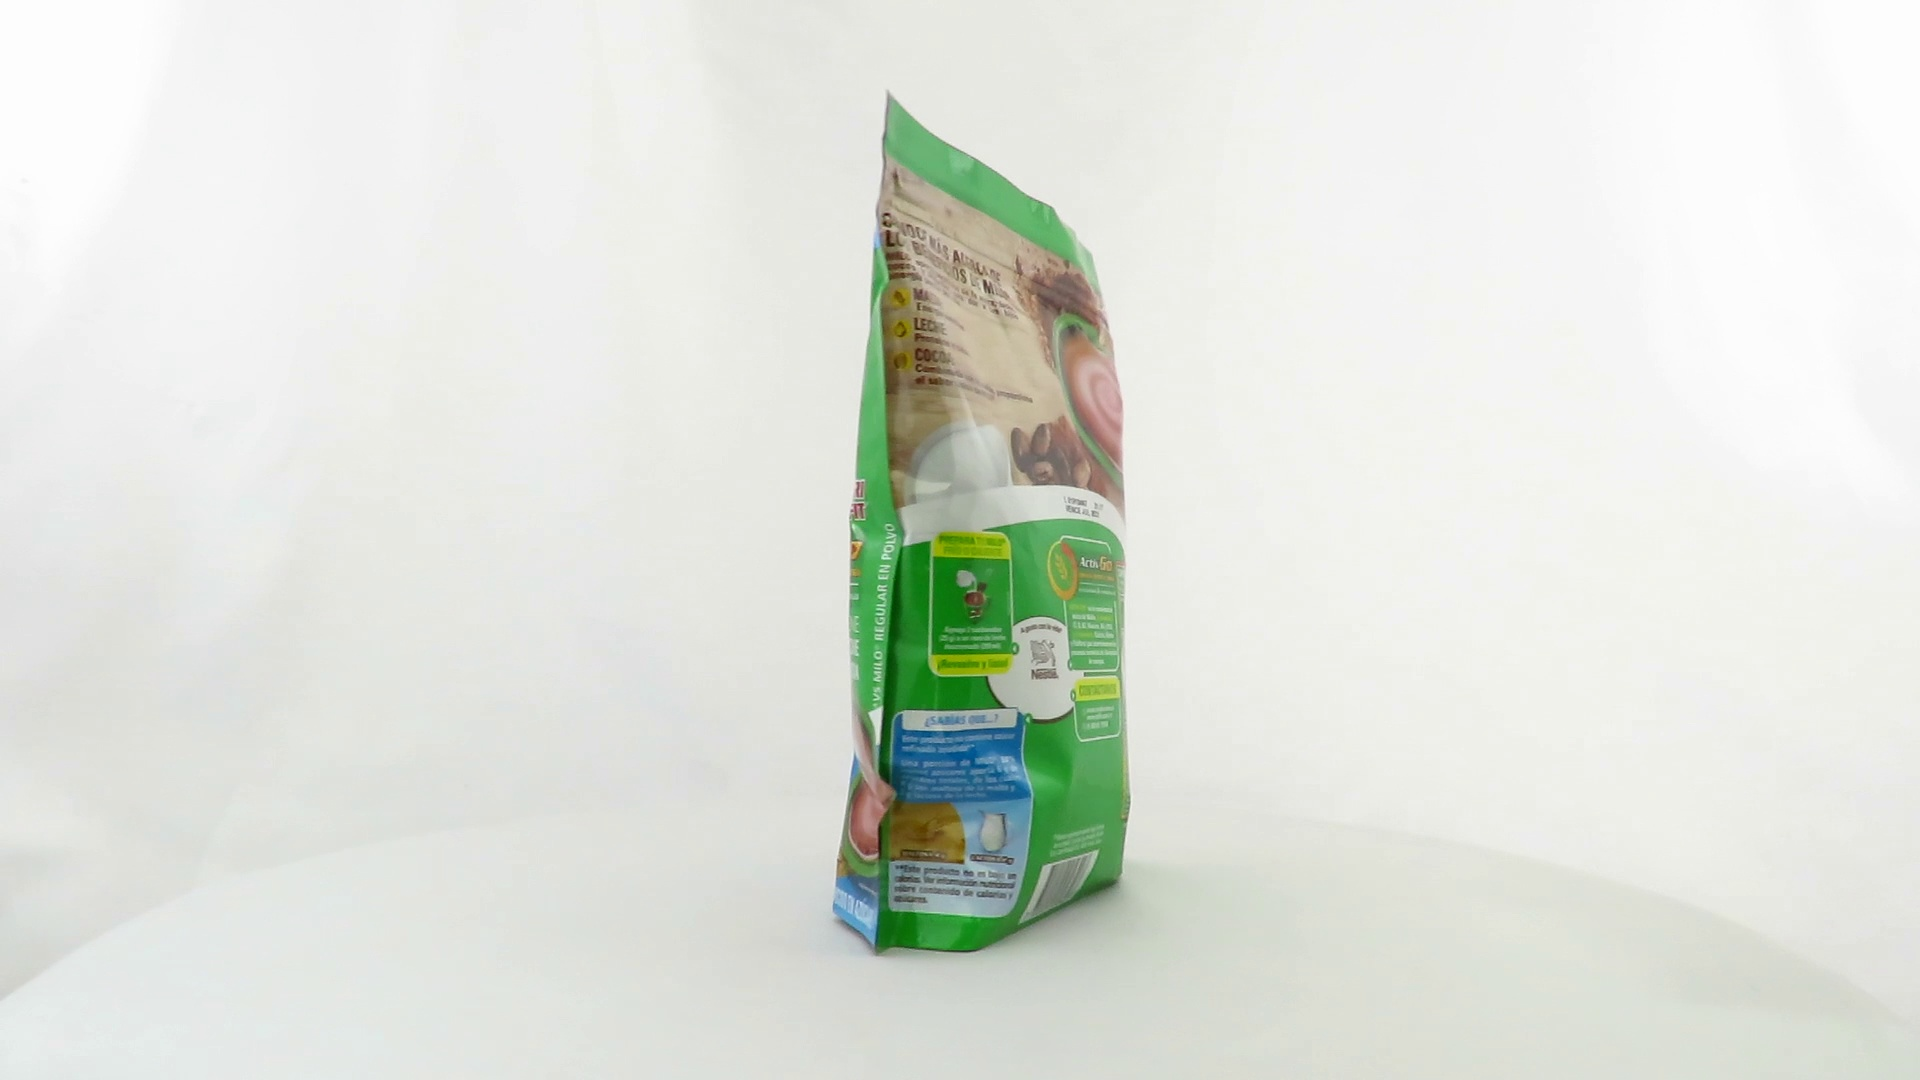COL0170205DYP50000: (827, 84, 1137, 964)
